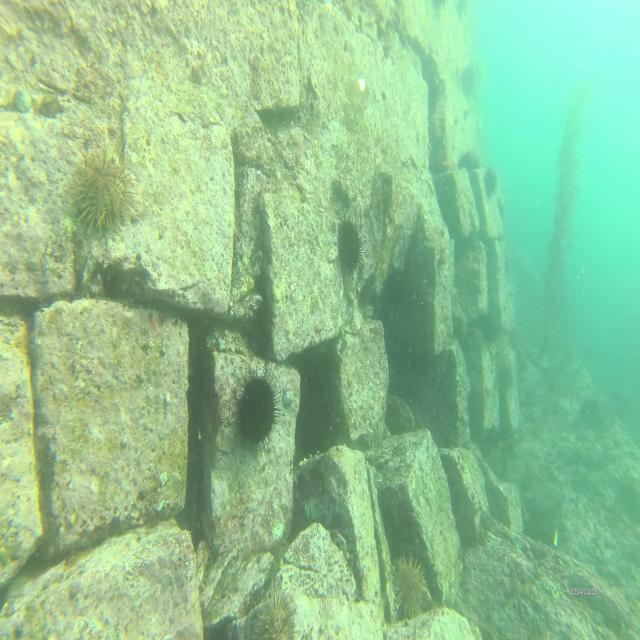echinus: (69, 146, 141, 238), (228, 360, 284, 460), (251, 576, 299, 640), (334, 207, 370, 290), (389, 548, 428, 621), (495, 360, 517, 401), (473, 309, 498, 345), (454, 149, 484, 175), (579, 395, 601, 430), (458, 63, 476, 99), (483, 161, 497, 203)
